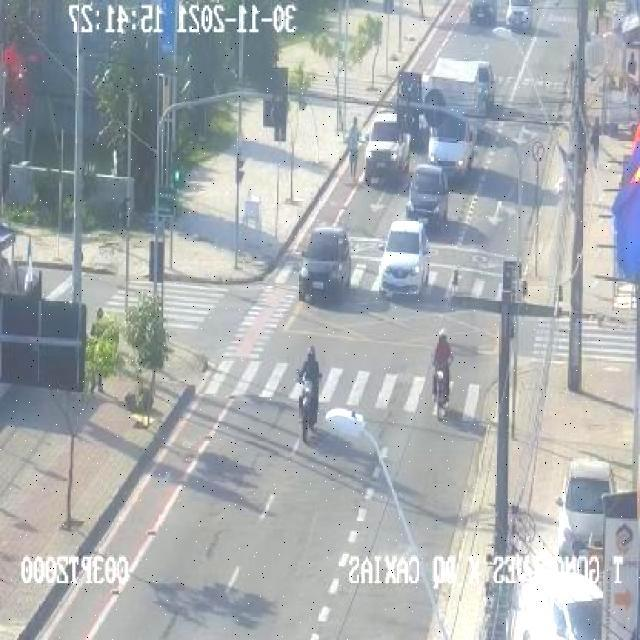Car: (295, 225, 351, 305), (379, 218, 430, 294), (363, 110, 407, 190), (404, 163, 449, 225), (467, 0, 500, 29), (506, 0, 535, 29)
Cycle: (295, 341, 322, 447), (430, 327, 454, 420)
Truck: (424, 60, 482, 173)
